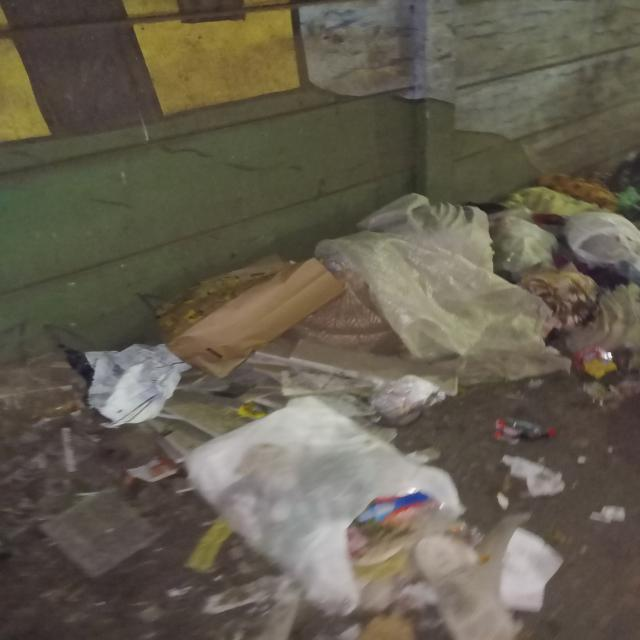garbage: (6, 174, 640, 640)
